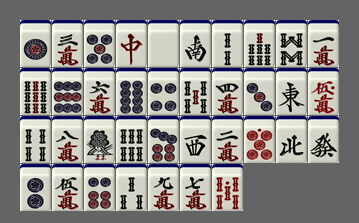0m: (308, 68, 339, 115)
0p: (244, 116, 275, 163)
0s: (212, 164, 243, 211)
1m: (308, 20, 339, 67)
1p: (20, 20, 51, 67)
1s: (84, 116, 115, 163)
1z: (276, 68, 307, 115)
2m: (212, 116, 243, 163)
2p: (20, 164, 51, 211)
2s: (212, 20, 243, 67)
2z: (180, 20, 211, 67)
3m: (52, 20, 83, 67)
3p: (244, 68, 275, 115)
3s: (116, 164, 147, 211)
3z: (180, 116, 211, 163)
4m: (212, 68, 243, 115)
4p: (148, 68, 179, 115)
4s: (20, 116, 51, 163)
4z: (276, 116, 307, 163)
5m: (52, 164, 83, 211)
5p: (84, 20, 115, 67)
5s: (180, 68, 211, 115)
5z: (148, 20, 179, 67)
6m: (84, 68, 115, 115)
6p: (84, 164, 115, 211)
6s: (116, 116, 147, 163)
6z: (308, 116, 339, 163)
7m: (180, 164, 211, 211)
7p: (148, 116, 179, 163)
7s: (244, 20, 275, 67)
7z: (116, 20, 147, 67)
8m: (52, 116, 83, 163)
8p: (116, 68, 147, 115)
8s: (276, 20, 307, 67)
9m: (148, 164, 179, 211)
9p: (52, 68, 83, 115)
9s: (20, 68, 51, 115)
